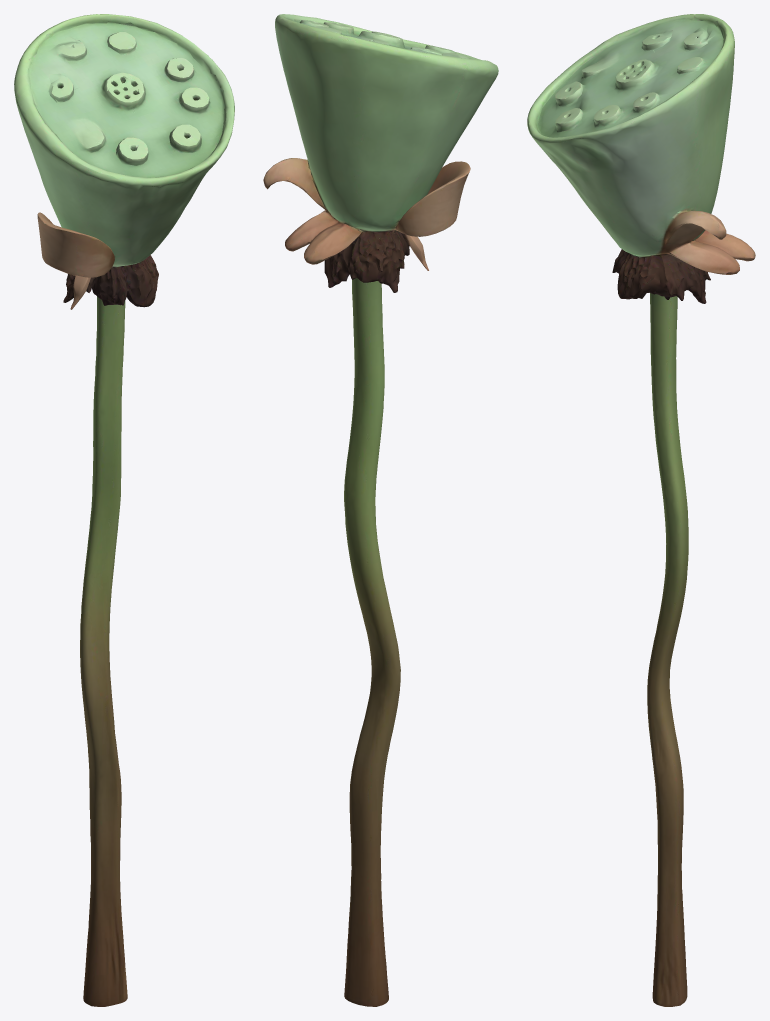
File: lotus-pod.glb
3 renders of one model, left to right at view 1: azimuth 30°, elevation 25°; view 2: azimuth 150°, elevation 25°; view 3: azimuth 270°, elevation 25°, orthographic. The views are drawn at different scales.
Visible parts, largest first — view 1: lotus-pod; view 2: lotus-pod; view 3: lotus-pod.
Boxes of the visible parts, bbox=[...] form: lotus-pod: bbox=[14, 14, 234, 1006]; lotus-pod: bbox=[263, 14, 498, 1006]; lotus-pod: bbox=[527, 14, 755, 1006].
Size of the model in its own units: 0.3495 by 1.65 by 0.3541.
Materials: 1 (1 with a texture image).
